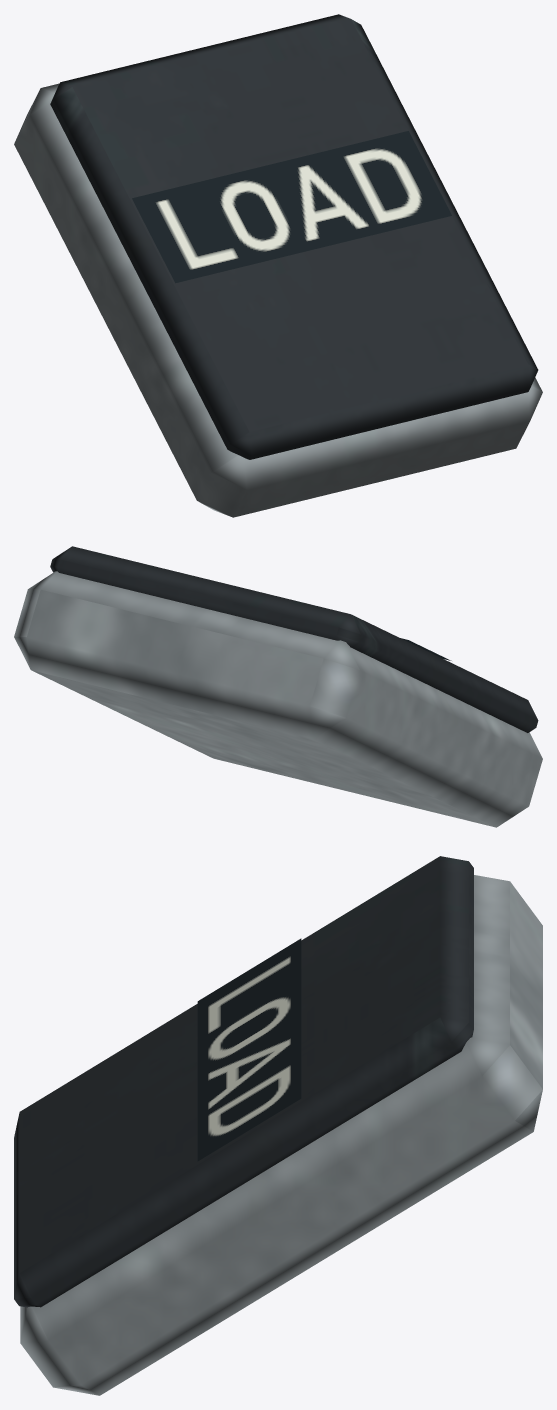
The model's file is prop_key_load.fbx.
3 views of the same model, one above another, from view 1: azimuth 30°, elevation 25°; view 2: azimuth 150°, elevation 25°; view 3: azimuth 270°, elevation 25° (orthographic). The views are drawn at different scales.
Visible parts, largest first — view 1: SM_prop_key_load; view 2: SM_prop_key_load; view 3: SM_prop_key_load.
Part boxes in pixels (left/top/right/bottom): SM_prop_key_load: left=14, top=14, right=542, bottom=517; SM_prop_key_load: left=14, top=546, right=542, bottom=827; SM_prop_key_load: left=14, top=856, right=542, bottom=1395.
Bounding box in the file's own units: 0.054 × 0.0494 × 0.0628.
Materials: 3 (3 with a texture image).
